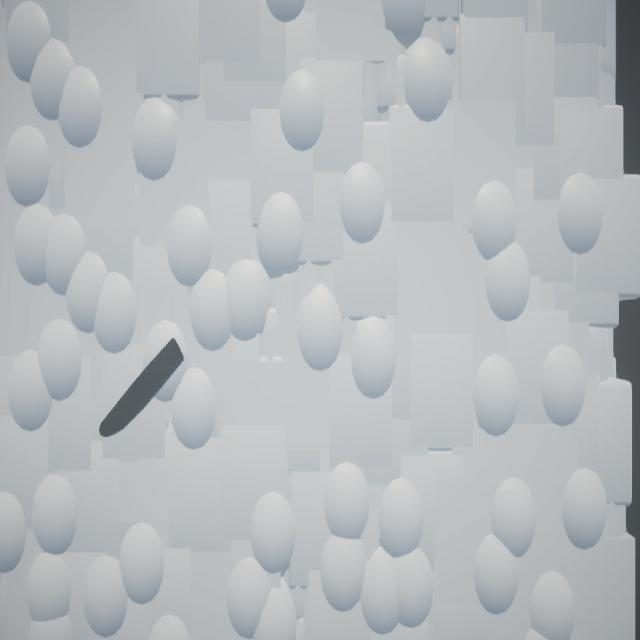top_knife: (100, 339, 185, 439)
